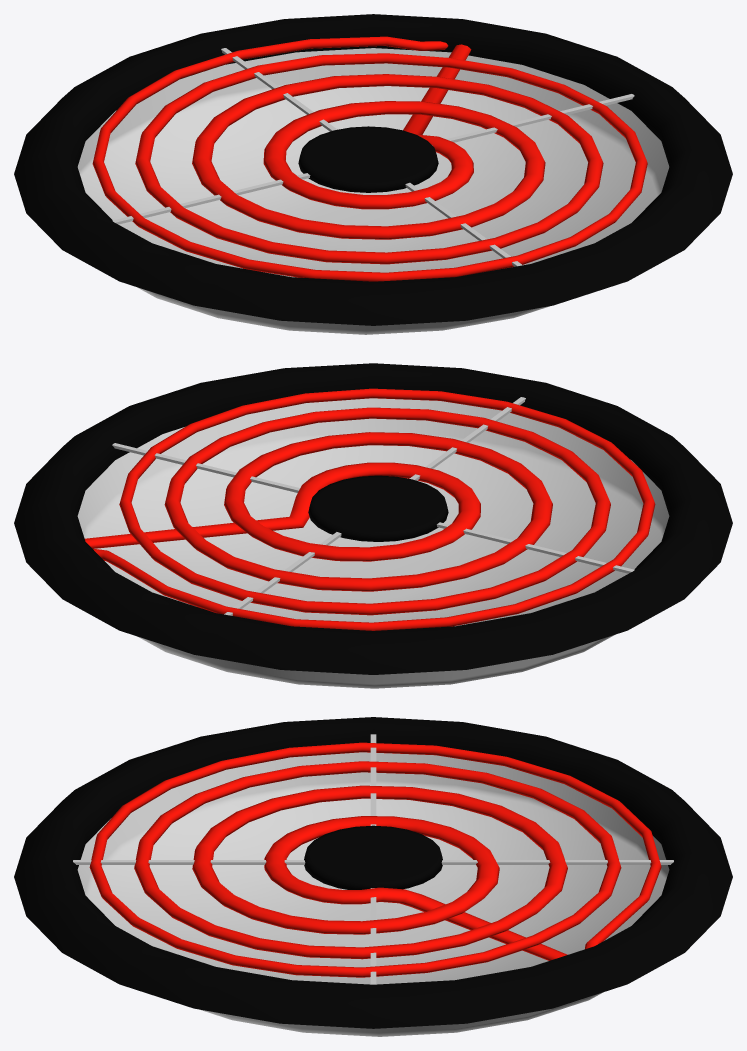
The model's file is RangeStyle6.fbx.
3 views of the same model, one above another, from view 1: azimuth 30°, elevation 25°; view 2: azimuth 150°, elevation 25°; view 3: azimuth 270°, elevation 25° (orthographic).
Parts seen in each view (by area): view 1: Spiral.000; view 2: Spiral.000; view 3: Spiral.000.
Part boxes in pixels (x1=…): Spiral.000: x1=14, y1=14, x2=732, y2=334; Spiral.000: x1=14, y1=363, x2=732, y2=688; Spiral.000: x1=14, y1=717, x2=732, y2=1036.
Bounding box in the file's own units: 255 × 29.97 × 255.
